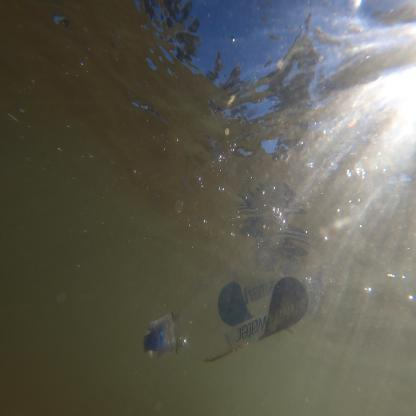Rác: (141, 258, 329, 358)
